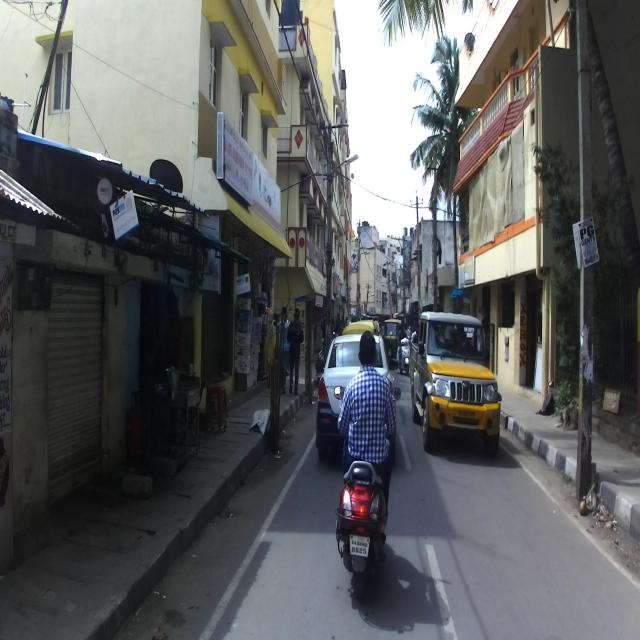car: (315, 333, 399, 461)
scooter: (334, 385, 401, 599)
truck: (408, 306, 502, 461)
